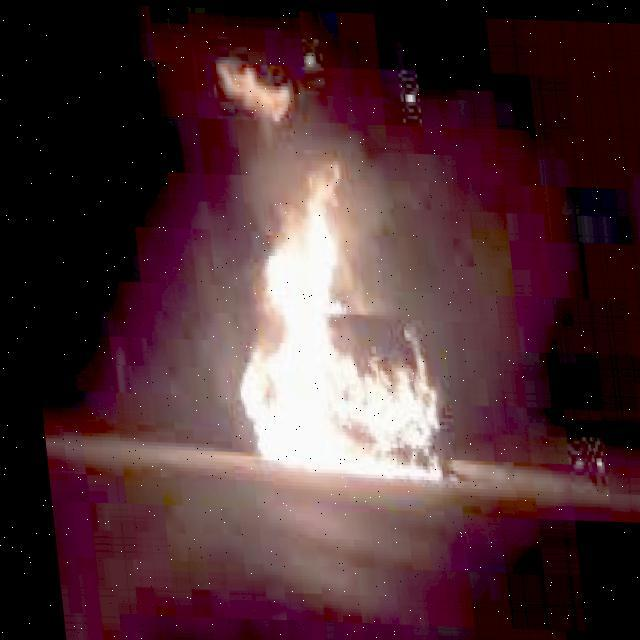Fire: (209, 156, 452, 482), (200, 47, 314, 142)
